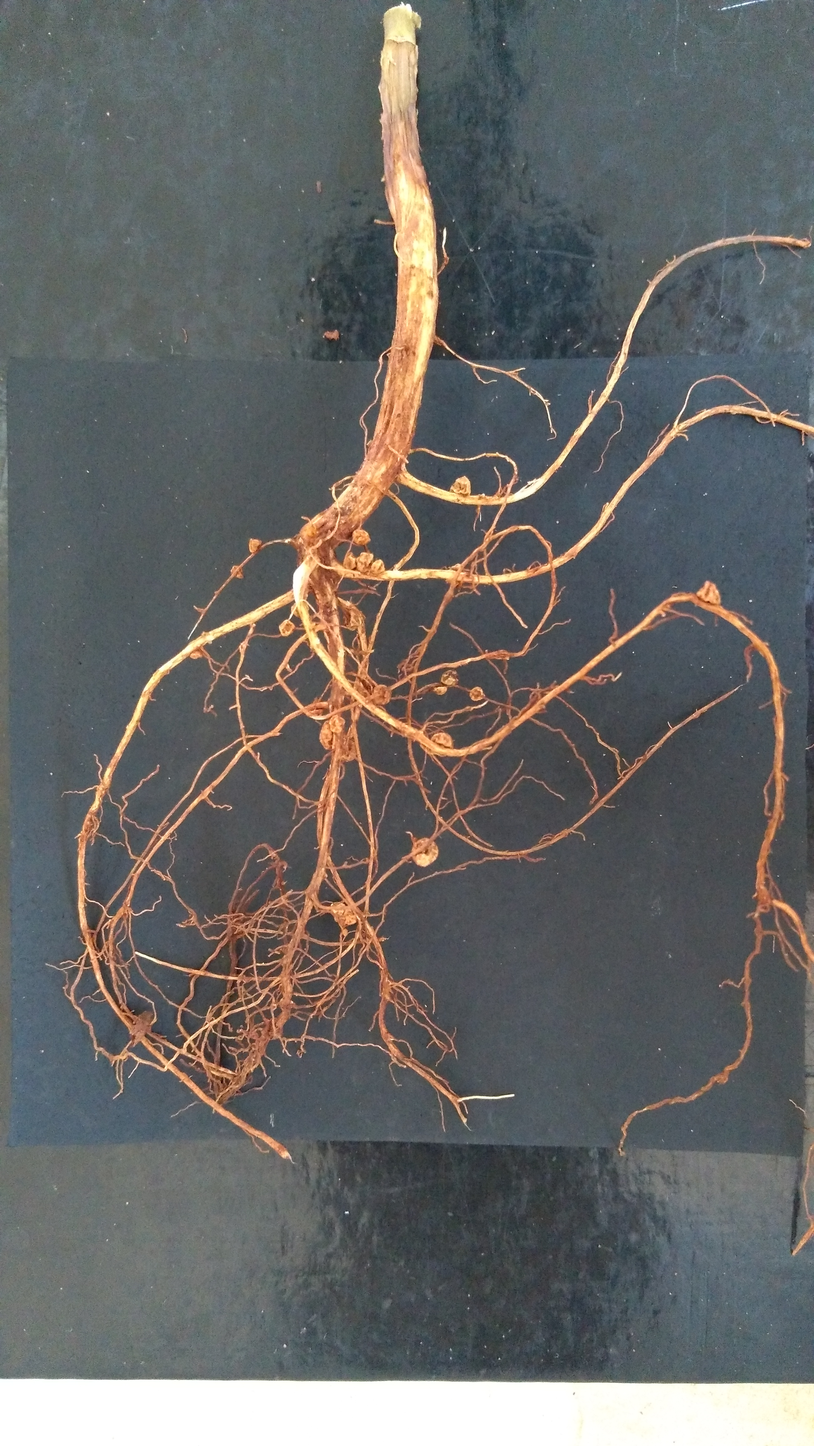nodule: (129, 1010, 155, 1041), (412, 838, 439, 867), (696, 580, 720, 605), (430, 732, 454, 756), (342, 733, 358, 761), (319, 720, 334, 749), (449, 476, 471, 495), (344, 608, 360, 631), (373, 685, 392, 704), (356, 553, 374, 573), (267, 1018, 282, 1040), (446, 563, 461, 584), (361, 676, 375, 698), (330, 714, 346, 733), (440, 670, 458, 686), (331, 902, 345, 922), (279, 620, 295, 637), (353, 529, 371, 544), (343, 552, 357, 571), (291, 602, 308, 617), (340, 909, 357, 924), (371, 559, 385, 575), (306, 706, 324, 717), (470, 687, 484, 701), (249, 539, 262, 553), (280, 997, 293, 1011), (231, 565, 243, 579), (189, 648, 202, 660), (433, 686, 446, 695), (343, 928, 348, 936)
